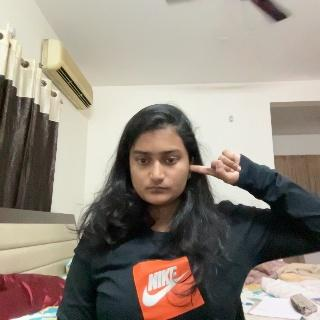Deaf: (190, 146, 264, 192)
Face: (127, 108, 189, 207)
